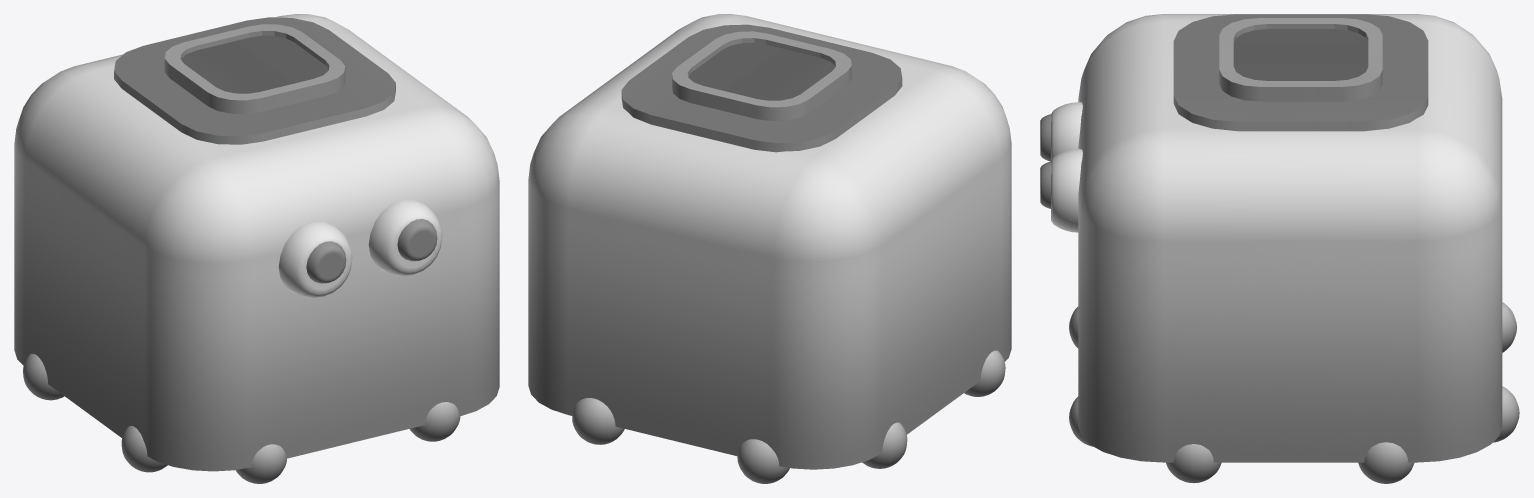
3 views of the same model, side by side, from view 1: azimuth 30°, elevation 25°; view 2: azimuth 150°, elevation 25°; view 3: azimuth 270°, elevation 25° (orthographic). The views are drawn at different scales.
Visible parts, largest first — view 1: Cube_Face; view 2: Cube_Face; view 3: Cube_Face.
Boxes of the visible parts, x1,y1,x2,y2 form: Cube_Face: (14, 14, 499, 483); Cube_Face: (528, 14, 1011, 483); Cube_Face: (1040, 14, 1519, 483).
Size of the model in its own units: 101 by 86.98 by 108.
Materials: 3 (1 with a texture image).
